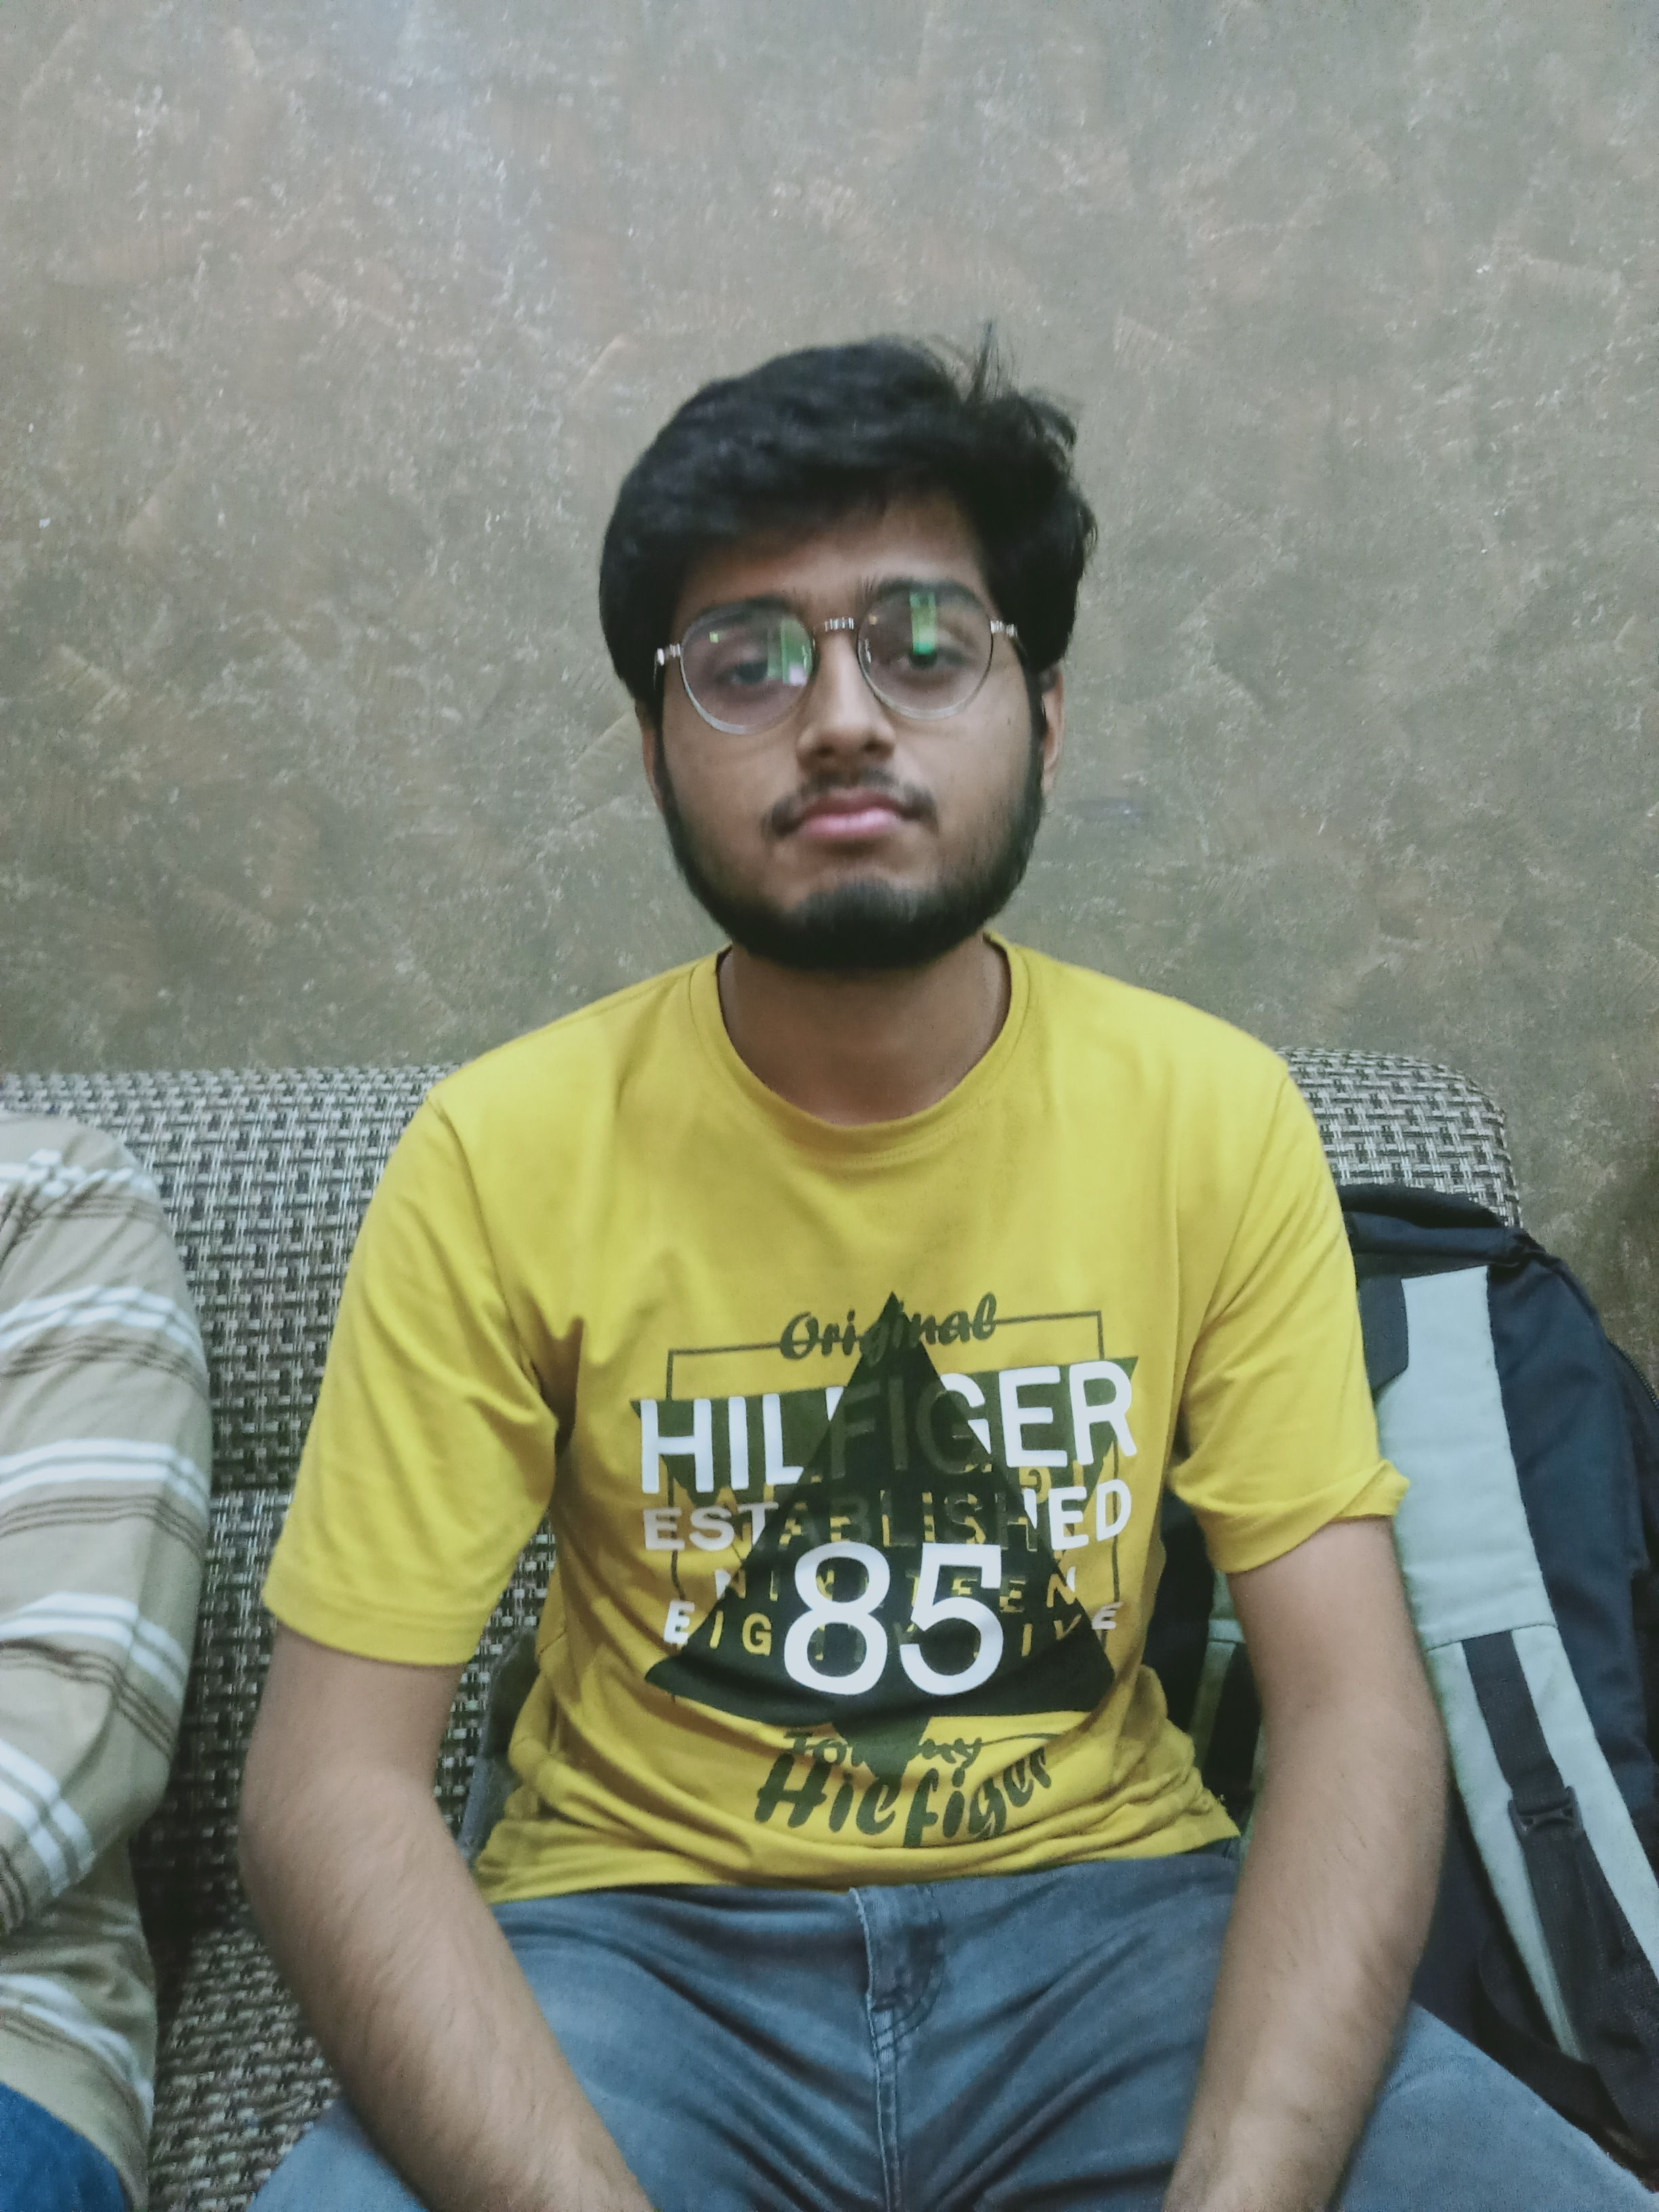NoMask: (663, 567, 1012, 933)
